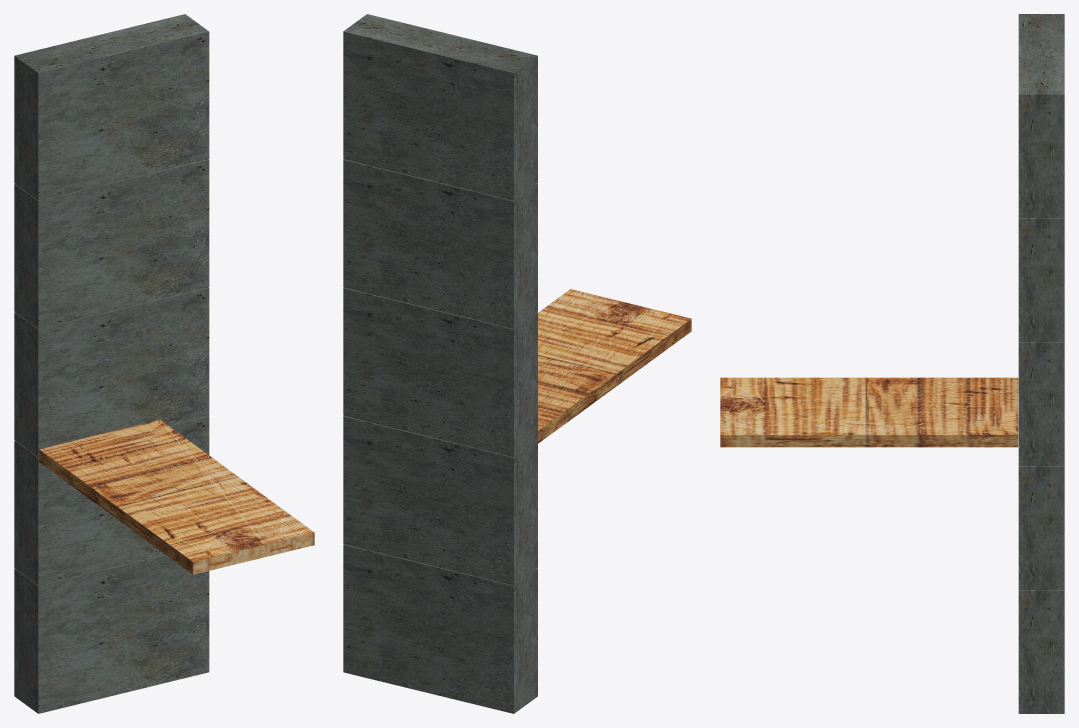
File: Table.fbx
The picture shows the model from 3 angles, left to right: view 1: azimuth 30°, elevation 25°; view 2: azimuth 150°, elevation 25°; view 3: azimuth 270°, elevation 25°; orthographic projection. The views are drawn at different scales.
Parts seen in each view (by area): view 1: Cube; view 2: Cube; view 3: Cube.
Part boxes in pixels (left/top/right/bottom): Cube: left=14, top=14, right=314, bottom=713; Cube: left=343, top=14, right=691, bottom=713; Cube: left=720, top=14, right=1064, bottom=713.
Size of the model in its own units: 141 by 505 by 254.
